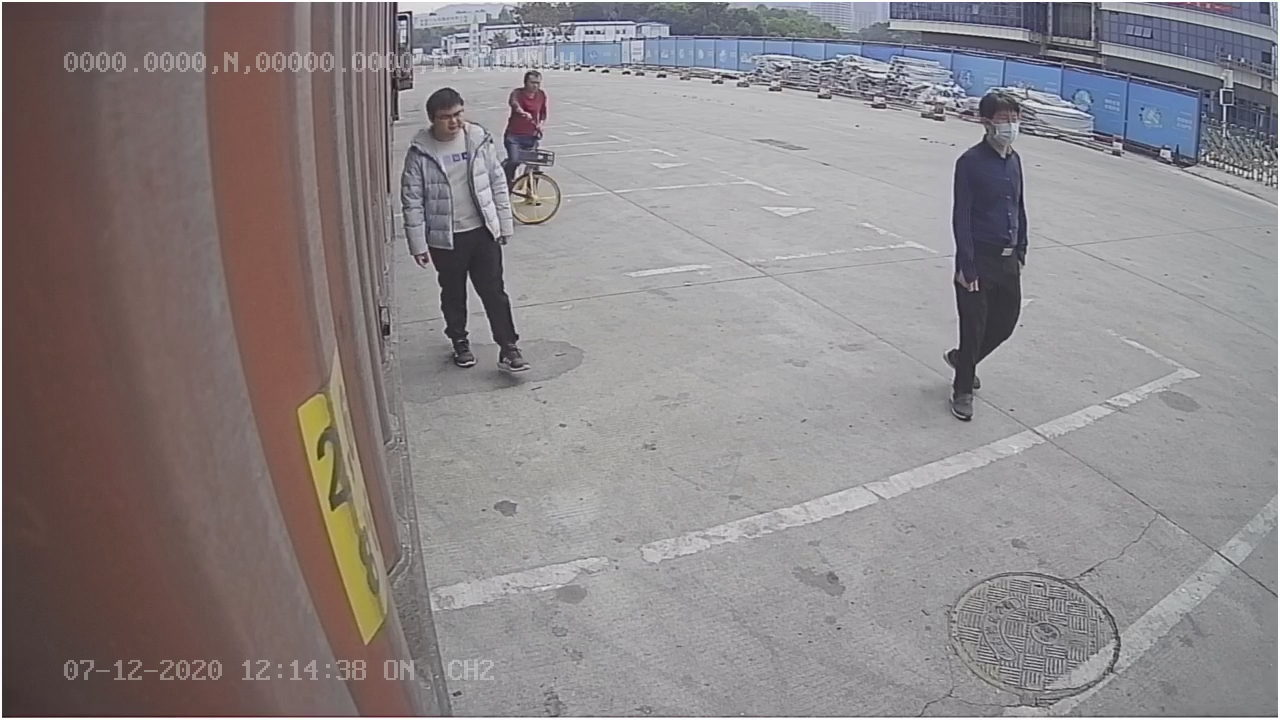person: (933, 85, 1033, 426)
